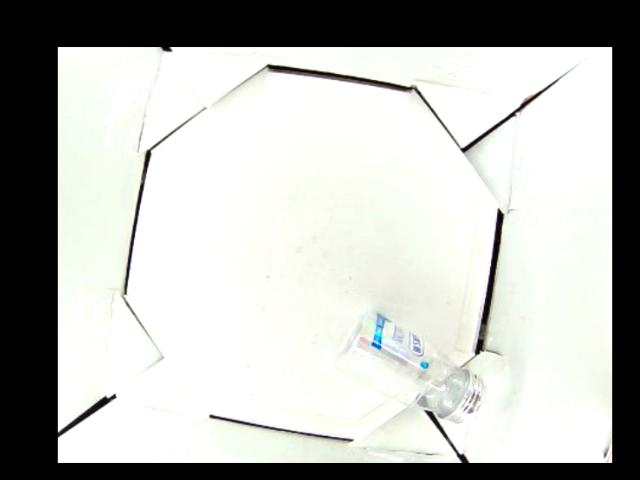Bottle: (333, 307, 487, 427)
